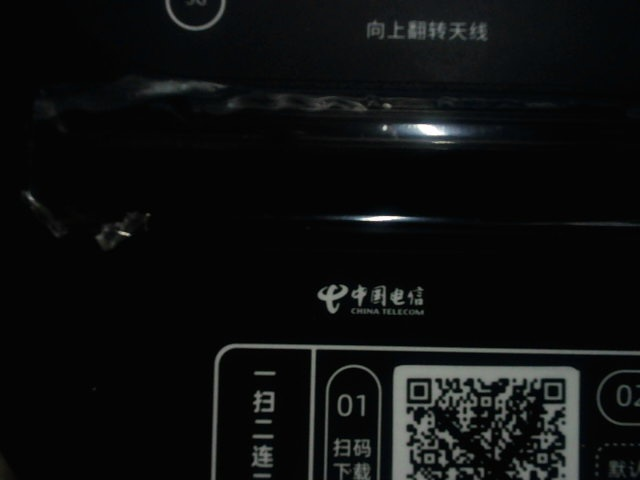AB_ChinaTelecom: (302, 270, 441, 325)
